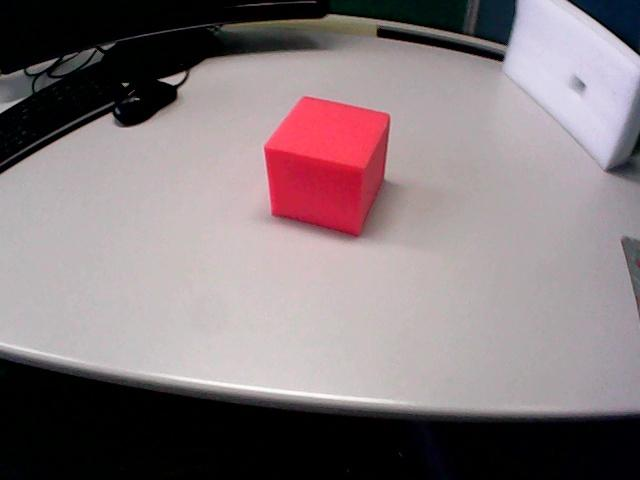red_block: (265, 97, 389, 235)
